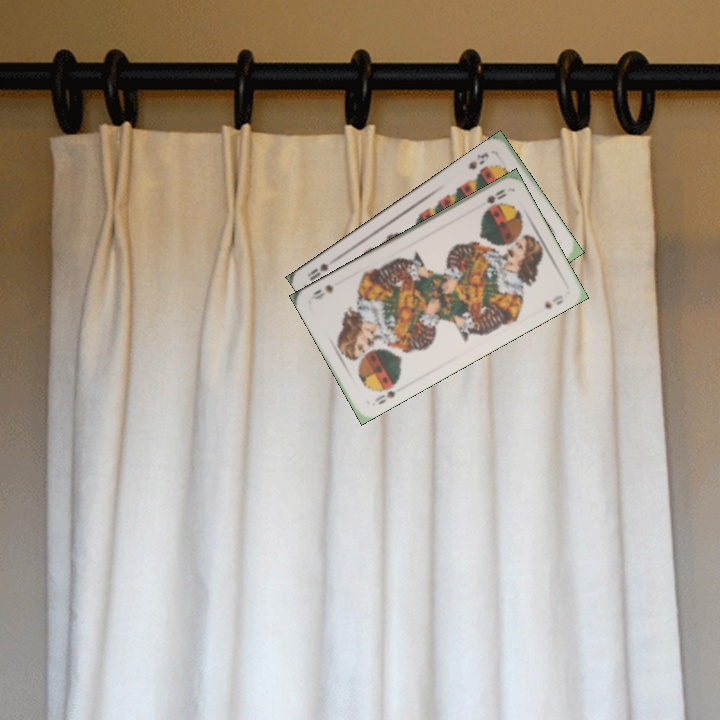S8: (464, 148, 491, 172)
SO: (370, 386, 398, 407), (483, 185, 510, 206)
